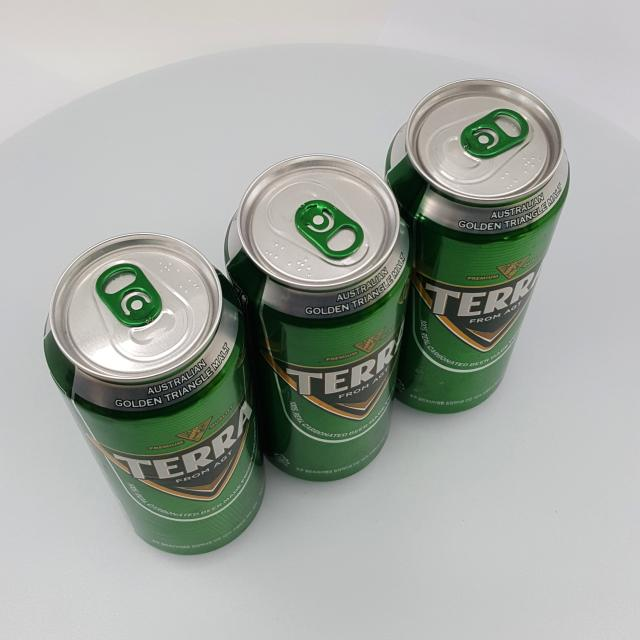beer-can: (43, 232, 266, 555), (224, 153, 414, 482), (384, 78, 570, 414)
